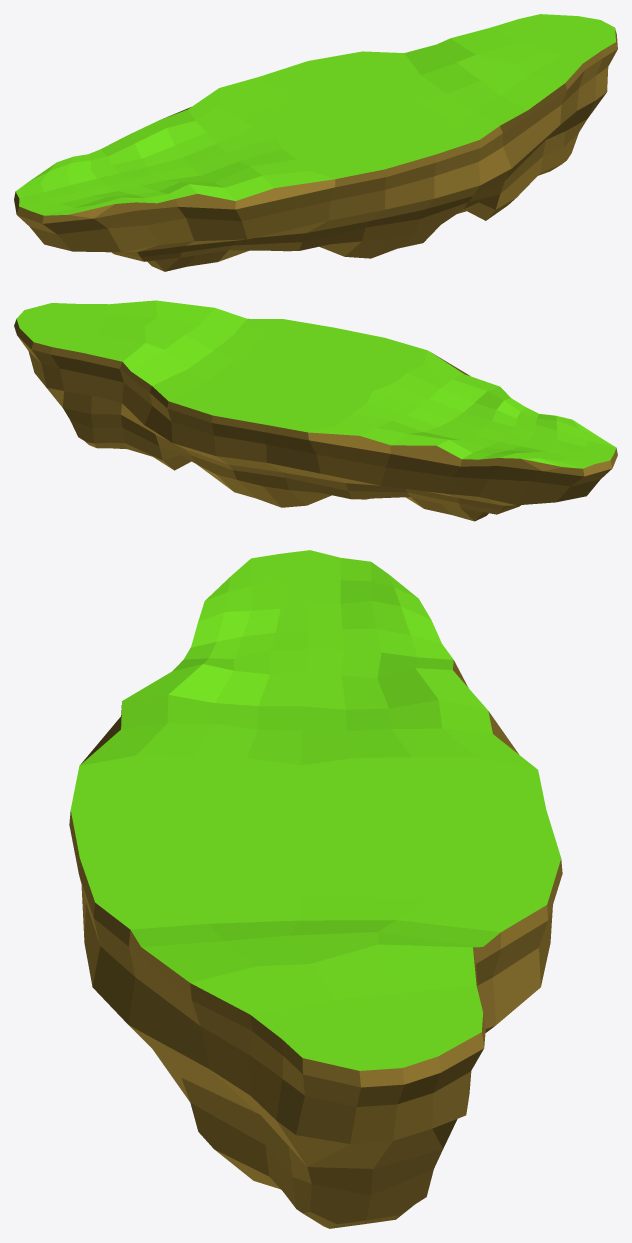
Rendered from hub world block out.fbx.
The picture shows the model from 3 angles, top to bottom: view 1: azimuth 30°, elevation 25°; view 2: azimuth 150°, elevation 25°; view 3: azimuth 270°, elevation 25°; orthographic projection. The views are drawn at different scales.
Parts seen in each view (by area): view 1: Plane; view 2: Plane; view 3: Plane.
Boxes of the visible parts, box(x1,y1,x2,y2) form: Plane: box(14, 14, 617, 271); Plane: box(14, 300, 617, 521); Plane: box(69, 550, 562, 1228).
Size of the model in its own units: 17467 by 3847 by 6455.
